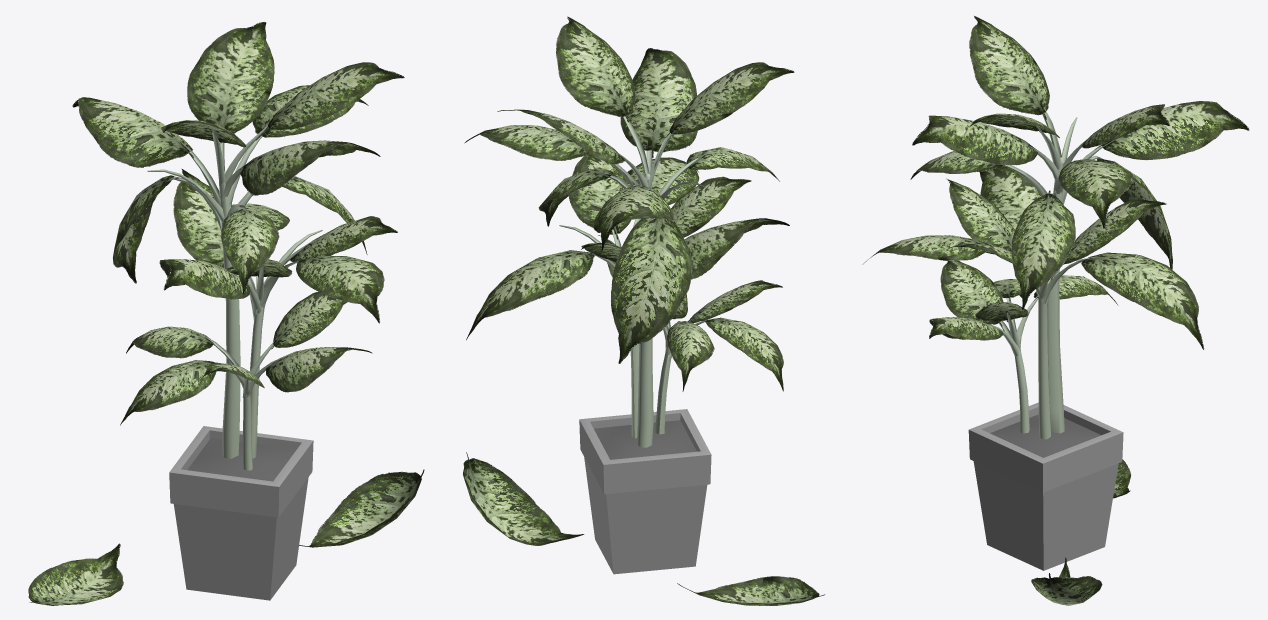
Rendered from pokok getah.fbx.
The picture shows the model from 3 angles, left to right: view 1: azimuth 30°, elevation 25°; view 2: azimuth 150°, elevation 25°; view 3: azimuth 270°, elevation 25°; orthographic projection. The views are drawn at different scales.
Visible parts, largest first — view 1: Diffenbach, Diffenbach.001, Diffenbach.002; view 2: Diffenbach, Diffenbach.001, Diffenbach.002; view 3: Diffenbach, Diffenbach.001.
Part boxes in pixels (x1=…): Diffenbach: x1=72, y1=21, x2=404, y2=600; Diffenbach.001: x1=299, y1=469, x2=424, y2=547; Diffenbach.002: x1=28, y1=543, x2=123, y2=605; Diffenbach: x1=464, y1=16, x2=794, y2=574; Diffenbach.001: x1=463, y1=452, x2=584, y2=545; Diffenbach.002: x1=677, y1=576, x2=825, y2=605; Diffenbach: x1=862, y1=16, x2=1249, y2=570; Diffenbach.001: x1=1031, y1=557, x2=1102, y2=605.
Size of the model in its own units: 141 by 177 by 131.
